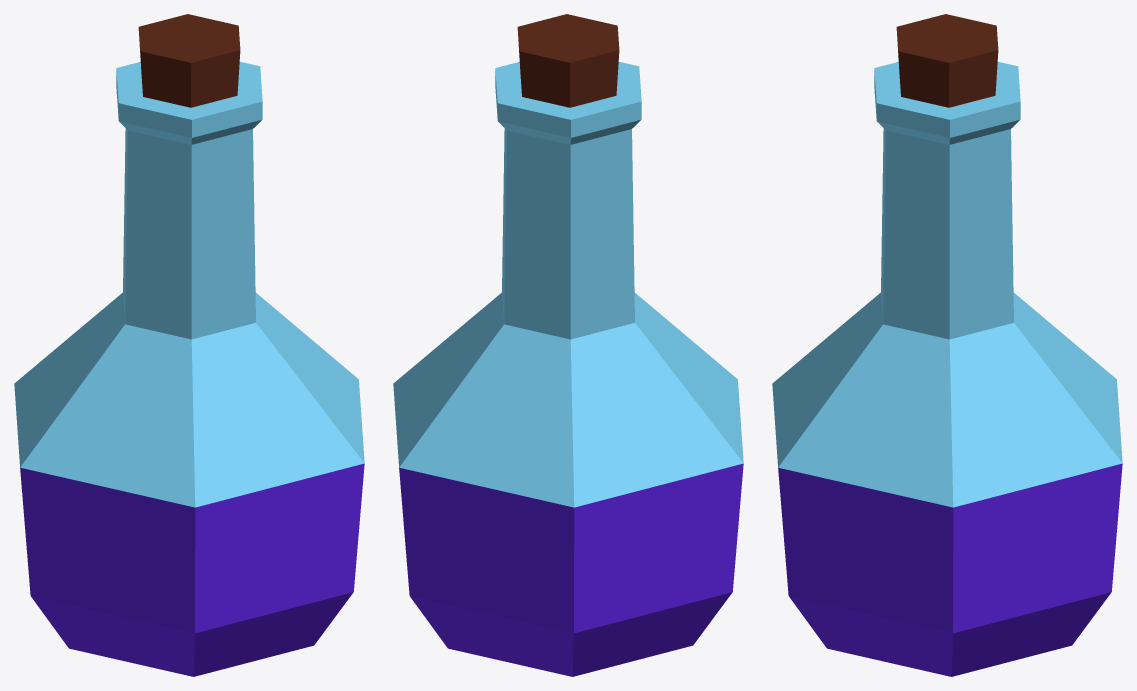
Rendered from m_PurplePotion.FBX.
The picture shows the model from 3 angles, left to right: view 1: azimuth 30°, elevation 25°; view 2: azimuth 150°, elevation 25°; view 3: azimuth 270°, elevation 25°; orthographic projection.
Parts seen in each view (by area): view 1: Circle.001; view 2: Circle.001; view 3: Circle.001.
Part boxes in pixels (x1,y1,x2,y2): Circle.001: (14,14,364,676); Circle.001: (393,14,743,676); Circle.001: (772,14,1122,676).
Size of the model in its own units: 45.15 by 72.46 by 39.76.
1 material, 1 textured.
